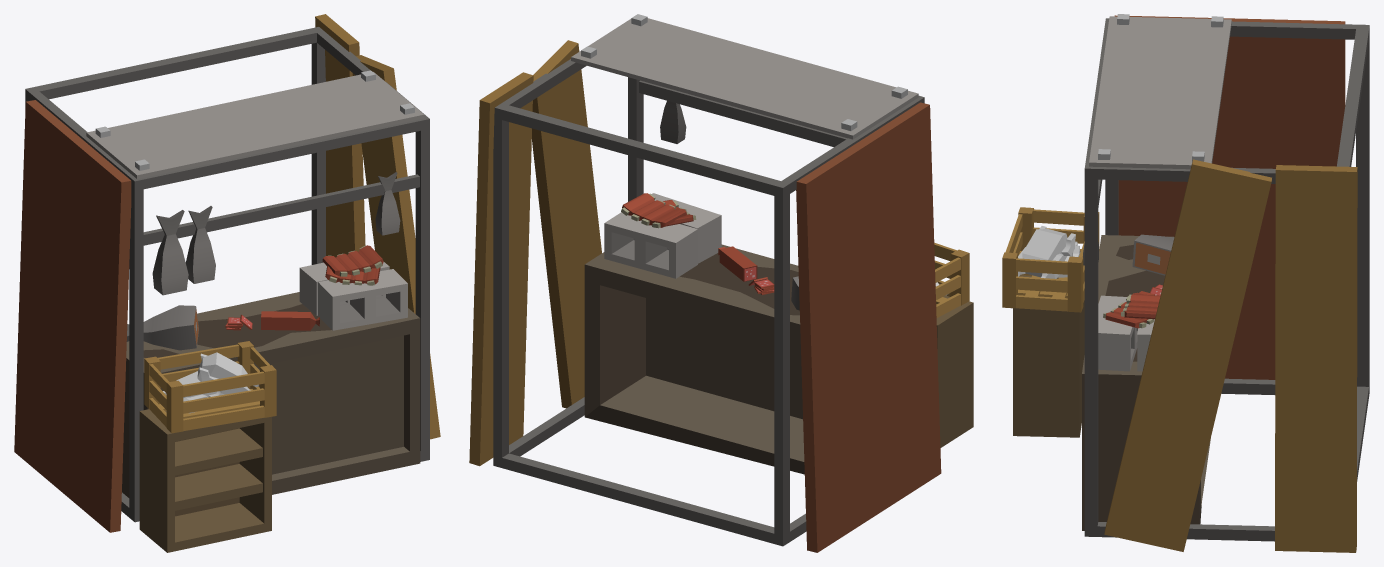
File: AI_Prop_Shop_Meat.fbx
3 renders of one model, left to right at view 1: azimuth 30°, elevation 25°; view 2: azimuth 150°, elevation 25°; view 3: azimuth 270°, elevation 25°, orthographic. The views are drawn at different scales.
Parts seen in each view (by area): view 1: AI_Prop_Shop_Meat; view 2: AI_Prop_Shop_Meat; view 3: AI_Prop_Shop_Meat.
Boxes of the visible parts, x1,y1,x2,y2 form: AI_Prop_Shop_Meat: (14,14,440,552); AI_Prop_Shop_Meat: (469,14,973,552); AI_Prop_Shop_Meat: (1002,14,1369,552).
Bounding box in the file's own units: 3.56 × 3.64 × 3.11.
